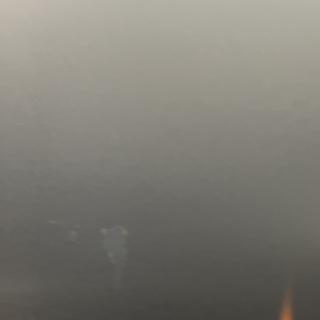fire: (262, 296, 293, 320)
